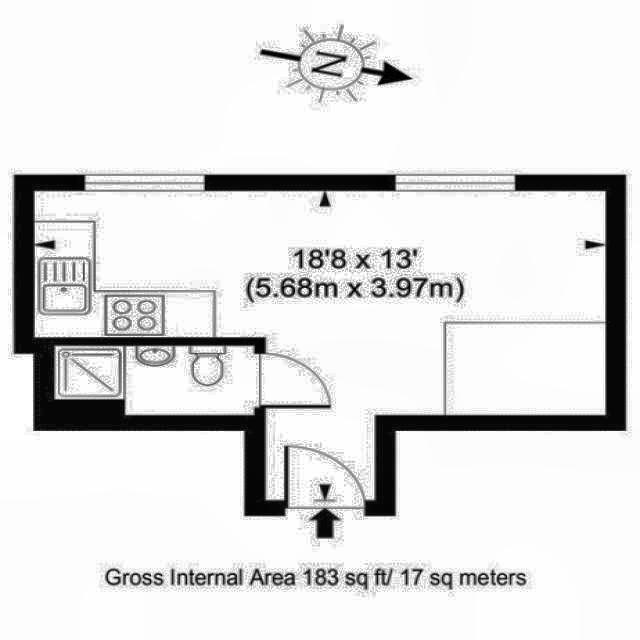room: (35, 190, 606, 508), (55, 345, 255, 416)
